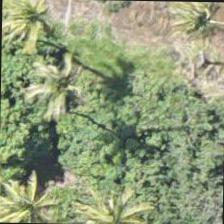Kelapa_Sawit: (20, 41, 112, 133), (1, 0, 90, 69), (163, 16, 223, 108), (0, 161, 76, 223)
